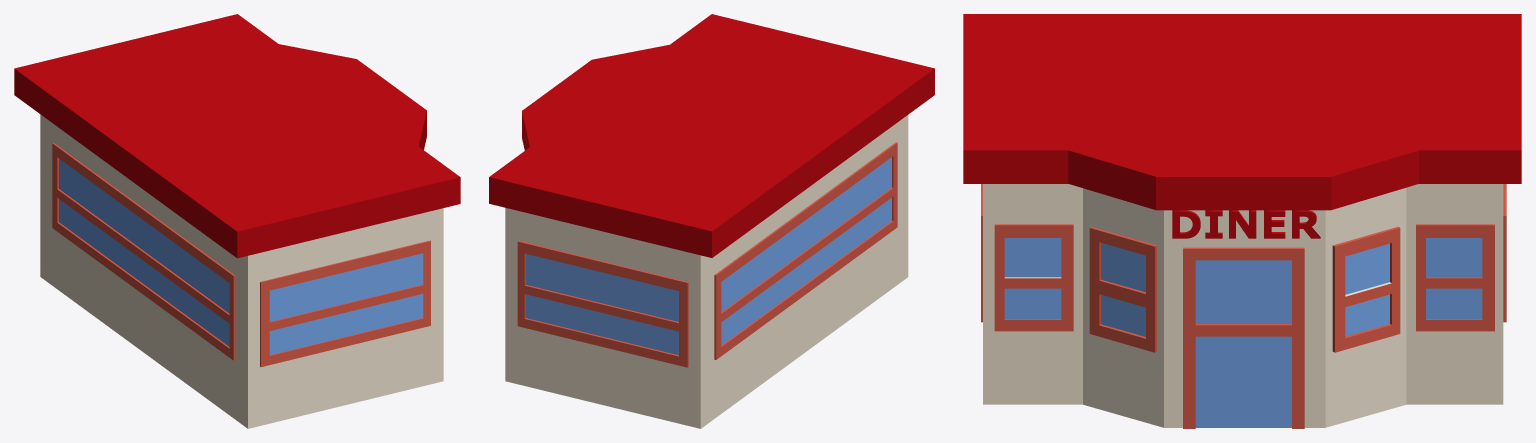
File: diner.fbx
3 views of the same model, side by side, from view 1: azimuth 30°, elevation 25°; view 2: azimuth 150°, elevation 25°; view 3: azimuth 270°, elevation 25° (orthographic). The views are drawn at different scales.
Parts seen in each view (by area): view 1: Text; view 2: Text; view 3: Text.
Part boxes in pixels (box(x1,y1,x2,y2)): Text: box(14, 14, 460, 428); Text: box(489, 14, 934, 428); Text: box(963, 14, 1521, 428).
Bounding box in the file's own units: 1363 × 1014 × 1975.
